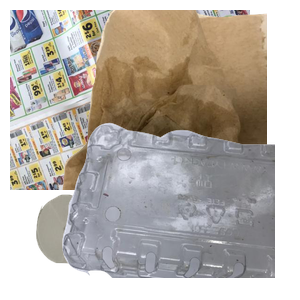glass: (34, 192, 187, 300)
paper: (10, 10, 250, 190)
plastic: (60, 120, 300, 300)
trash: (60, 10, 300, 190)
